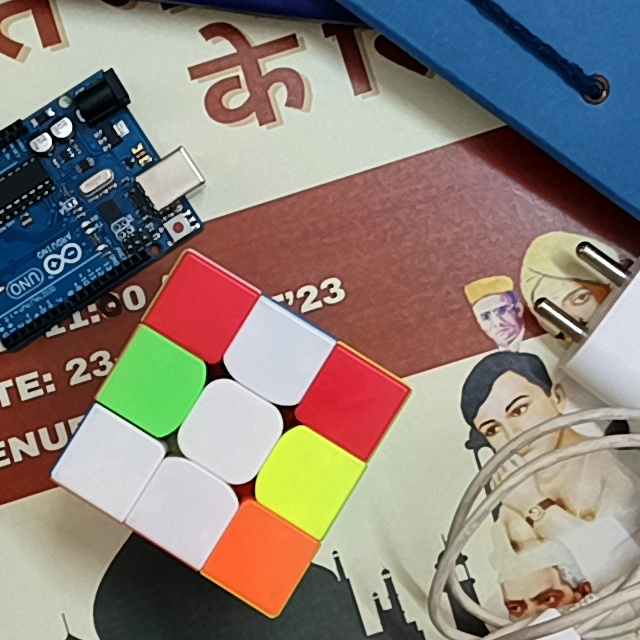tile: (274, 450, 335, 509), (229, 528, 290, 587), (247, 323, 305, 385), (80, 430, 139, 490), (154, 480, 215, 538), (125, 354, 185, 412), (171, 282, 230, 340), (198, 406, 259, 461), (320, 375, 383, 428)
